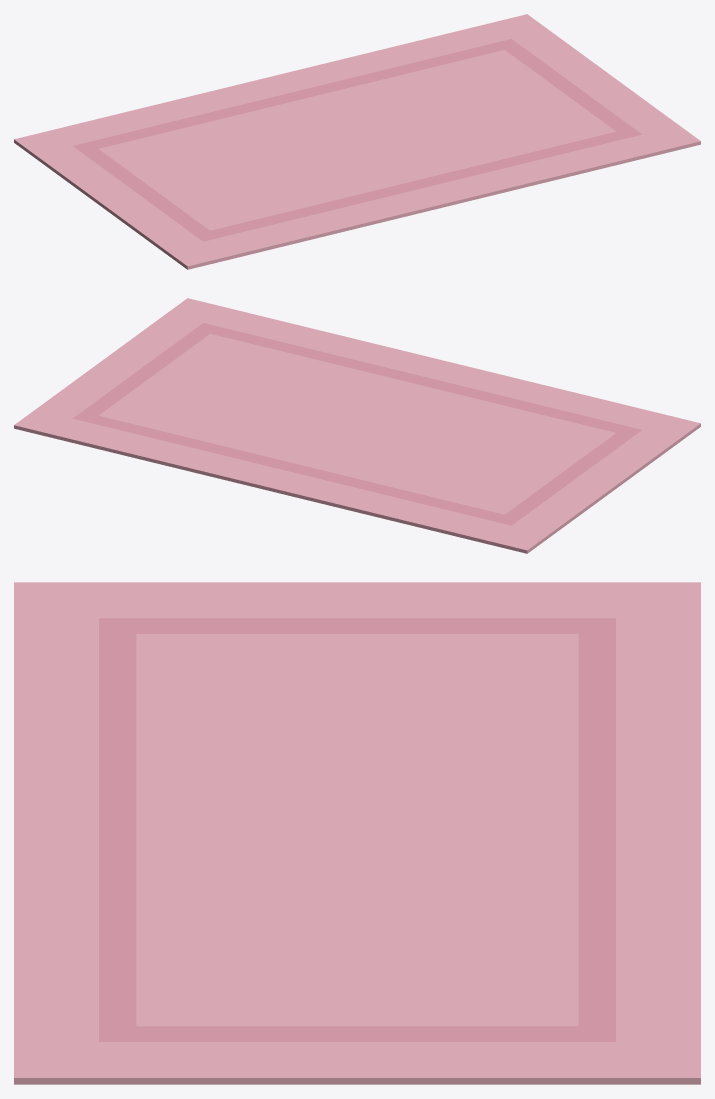
The model's file is furn_pinkrug.glb.
3 renders of one model, top to bottom at view 1: azimuth 30°, elevation 25°; view 2: azimuth 150°, elevation 25°; view 3: azimuth 270°, elevation 25°, orthographic. The views are drawn at different scales.
Visible parts, largest first — view 1: pinkrug; view 2: pinkrug; view 3: pinkrug.
Boxes of the visible parts, left/top/right/bottom form: pinkrug: left=14, top=14, right=700, bottom=269; pinkrug: left=14, top=298, right=700, bottom=553; pinkrug: left=14, top=582, right=700, bottom=1084.
Bounding box in the file's own units: 2.2 × 0.014 × 1.29.
